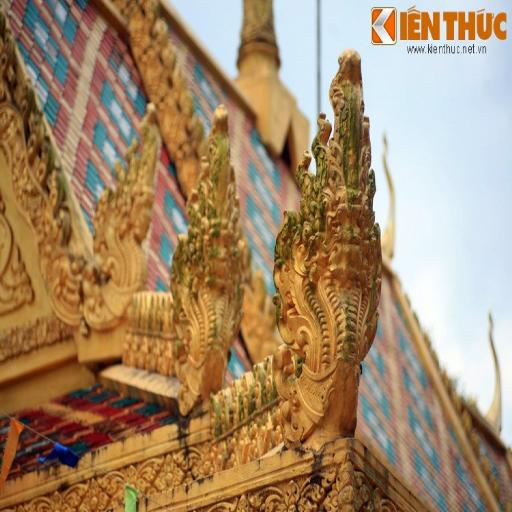ran: (274, 52, 378, 442), (170, 110, 247, 384), (83, 100, 161, 316)
